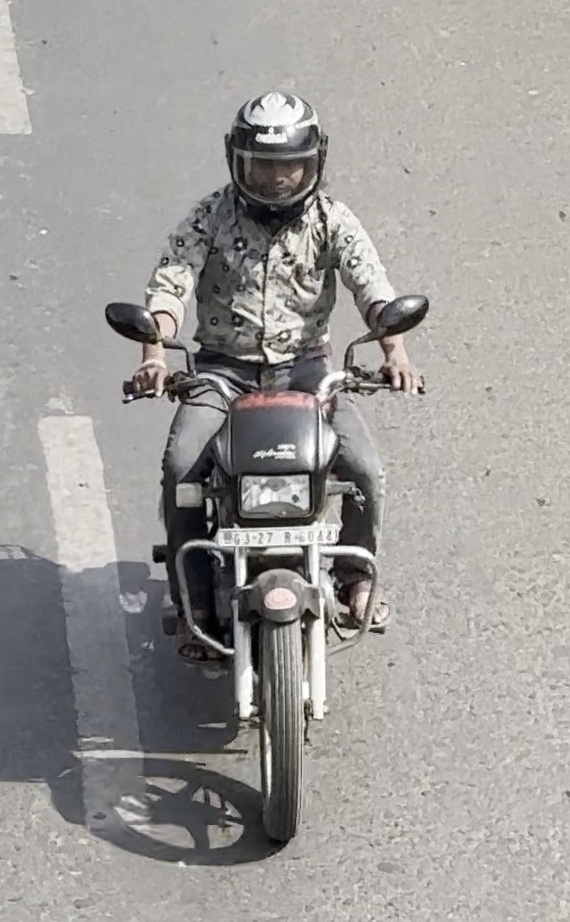BikeWithRider: (101, 90, 431, 846)
Helmet: (219, 91, 332, 228)
